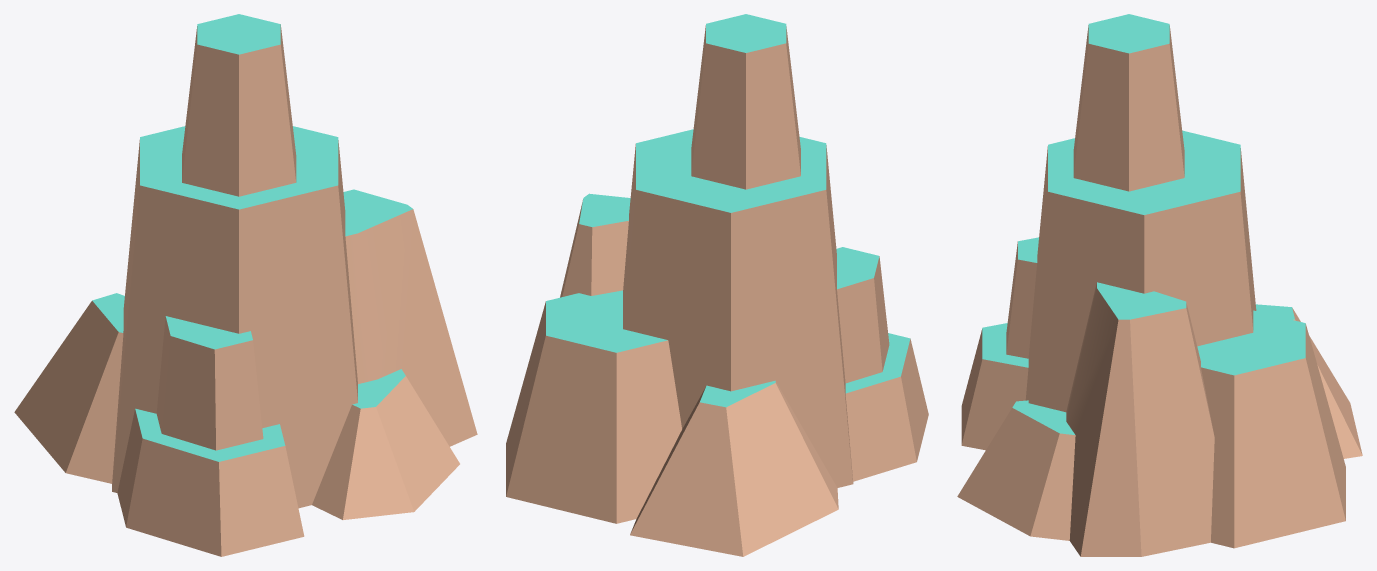
File: rock_tallB.glb
3 renders of one model, left to right at view 1: azimuth 30°, elevation 25°; view 2: azimuth 150°, elevation 25°; view 3: azimuth 270°, elevation 25°, orthographic. The views are drawn at different scales.
Parts seen in each view (by area): view 1: rock_tallB; view 2: rock_tallB; view 3: rock_tallB.
Part boxes in pixels (x1,y1,x2,y2): rock_tallB: (14,14,477,556); rock_tallB: (506,14,928,556); rock_tallB: (957,14,1362,556).
Bounding box in the file's own units: 0.7648 × 0.8838 × 0.7701.
